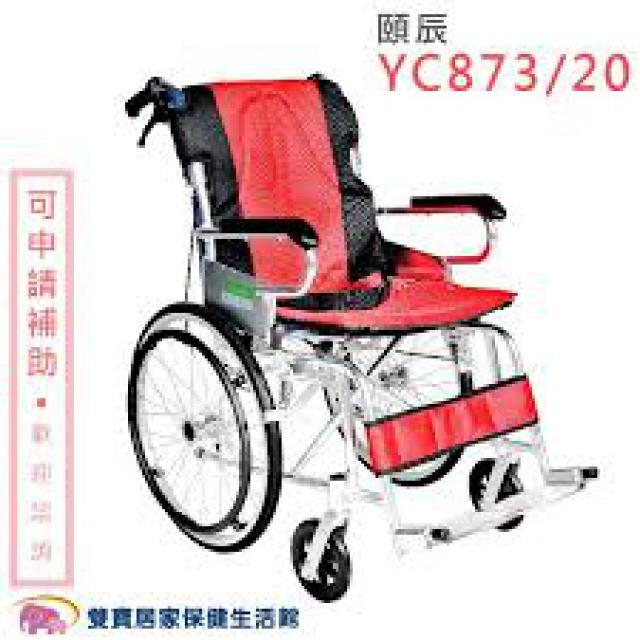wheelchair: (113, 68, 618, 600)
